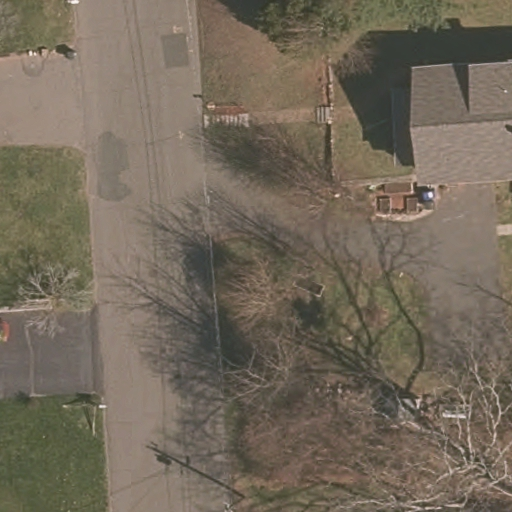DT: (58, 385, 117, 438)
